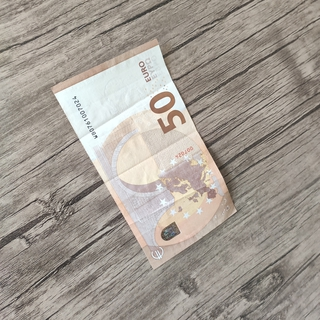50EUROBack: (49, 35, 239, 271)
